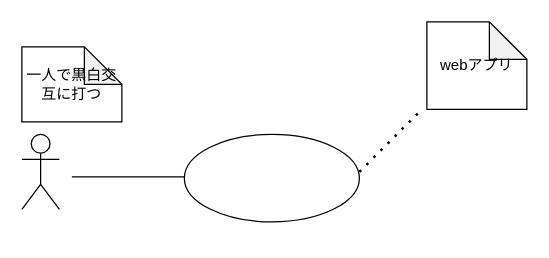
Some shapes in this 549 by 258 pixel diagram are drawn without their labels. The shapes that lost their labels are listed below. From the top down, each one's centre as x and y in pixels, then its label:
(40,171): Actor
(271,177): リバーシ アプリケーション
